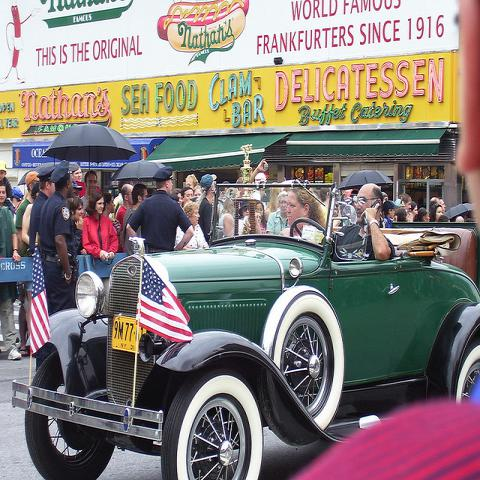car: (141, 180, 479, 404)
